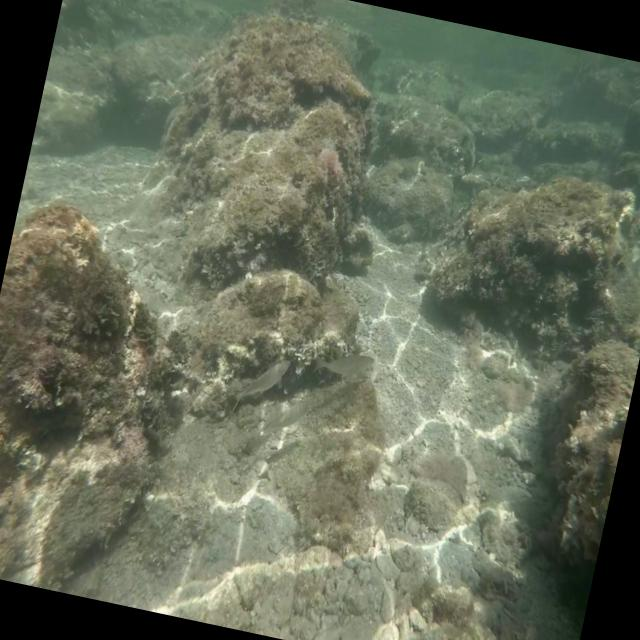Sokar Baligi: (220, 342, 292, 423), (308, 331, 380, 384)
